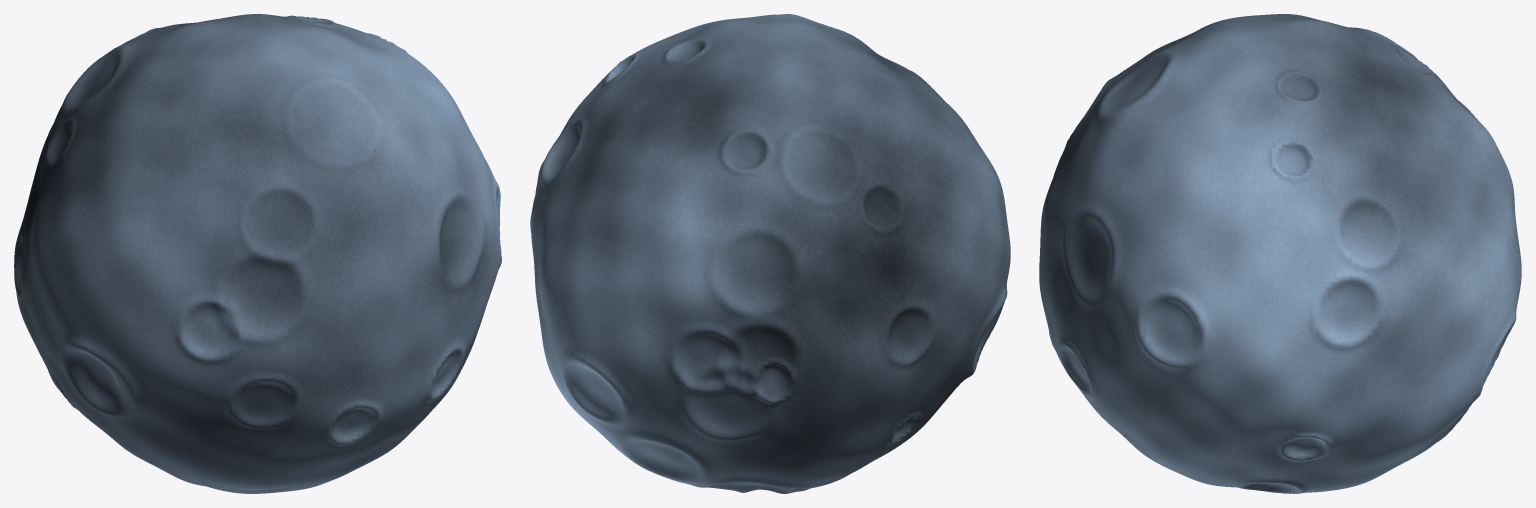
Rendered from rough-blue.glb.
3 views of the same model, side by side, from view 1: azimuth 30°, elevation 25°; view 2: azimuth 150°, elevation 25°; view 3: azimuth 270°, elevation 25° (orthographic). The views are drawn at different scales.
Visible parts, largest first — view 1: rough-blue; view 2: rough-blue; view 3: rough-blue.
Part boxes in pixels (box(x1,y1,x2,y2)): rough-blue: box(14, 14, 501, 493); rough-blue: box(530, 14, 1010, 493); rough-blue: box(1039, 14, 1521, 493).
Size of the model in its own units: 2.08 by 2.07 by 2.04.
1 material, 1 textured.
